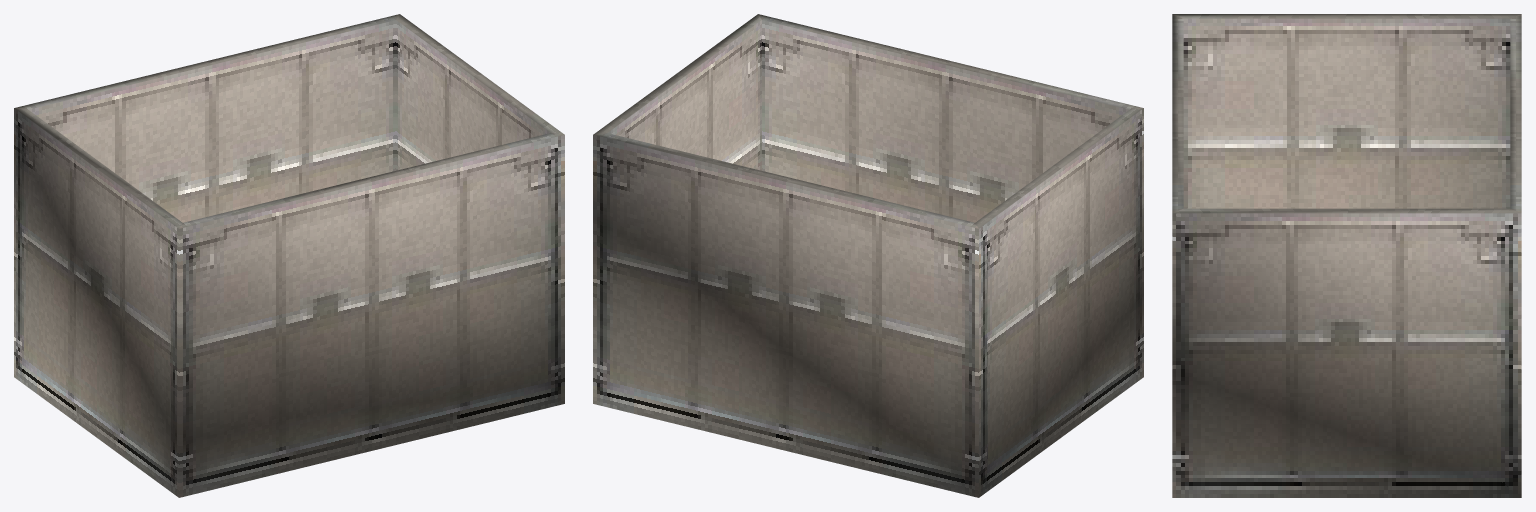
File: crate.glb
3 views of the same model, side by side, from view 1: azimuth 30°, elevation 25°; view 2: azimuth 150°, elevation 25°; view 3: azimuth 270°, elevation 25° (orthographic). The views are drawn at different scales.
Visible parts, largest first — view 1: Crate; view 2: Crate; view 3: Crate.
Boxes of the visible parts, x1,y1,x2,y2 form: Crate: (14,14,564,497); Crate: (593,14,1143,497); Crate: (1172,14,1521,497).
Bounding box in the file's own units: 1.35 × 0.9 × 1.
Materials: 1 (1 with a texture image).
